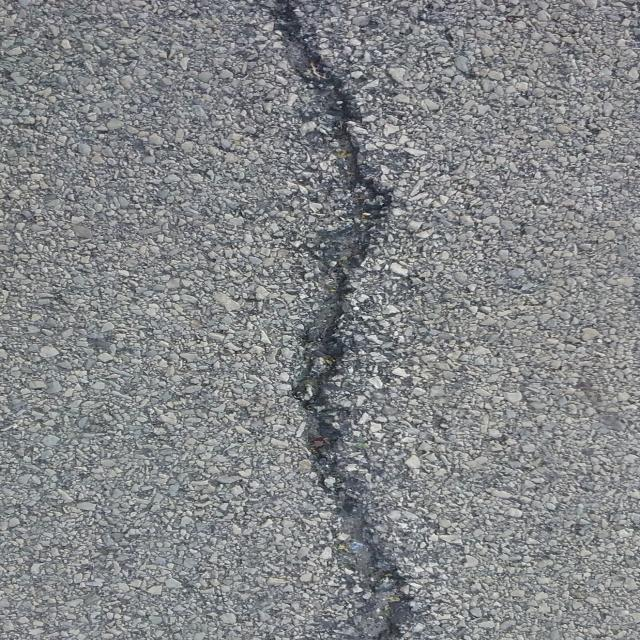Crack: (247, 0, 420, 640)
